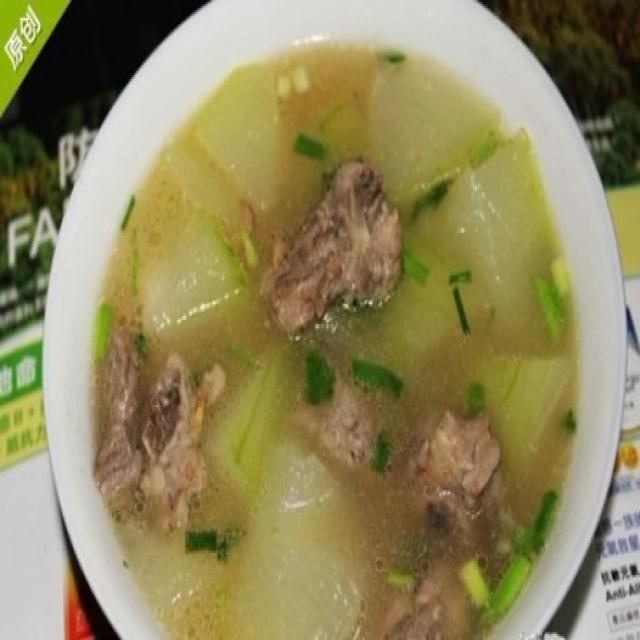汤锅炖物: (56, 22, 610, 632)
